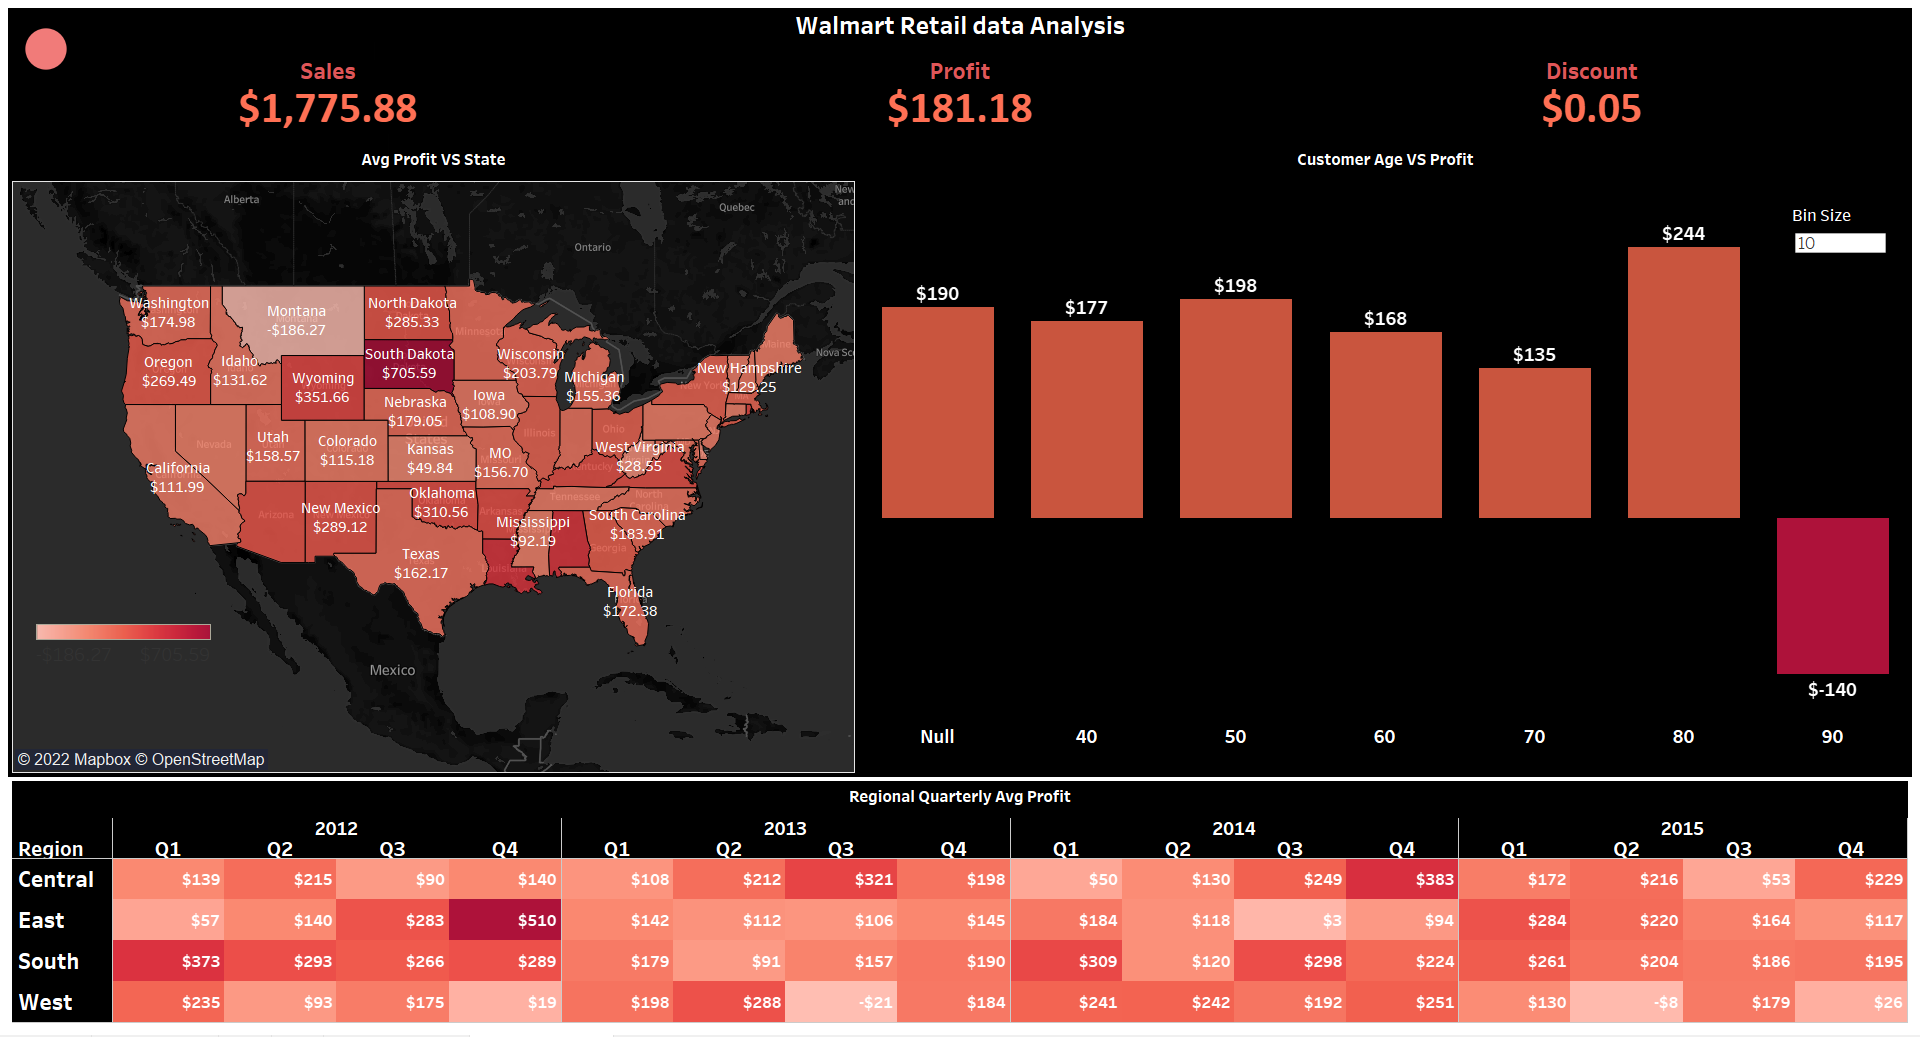

What the dashboard file says about the page in this screenshot:
{"tool":"tableau","page":{"name":"Dashboard 1","canvas":[1000,1000],"units":"permille","ordinal":0},"visuals":[{"type":"text","box":[5,9.9,990,41]},{"type":"worksheet","title":"info","mark":"Circle","box":[12.5,23.6,23.1,47.1]},{"type":"blank","box":[5,50.9,990,18.6]},{"type":"worksheet","title":"avg SPD","mark":"Automatic","box":[5,69.5,990,101.7]},{"type":"worksheet","title":"avg VS state","mark":"Multipolygon","box":[5,173.7,530.5,575.6]},{"type":"worksheet","title":"loss","mark":"Automatic","rows":["Profit"],"cols":["Customer Age (bin)"],"box":[535.5,173.7,459.4,575.6]},{"type":"parameter","param":"[Parameters].[Parameter 1]","box":[933.3,197.3,50.5,78.2]},{"type":"legend","title":"avg VS state","param":"[federated.05pib390i9ice015k579715qkue2].[avg:Profit:qk]","box":[16.8,599.3,95.4,58.3]},{"type":"worksheet","title":"Regional profit","mark":"Square","rows":["Region"],"cols":["Order Date","Order Date"],"box":[5,749.3,990,240.8]}]}

Visuals, with their boxes on the dashboard's canvas, which has no fixed pixel size, in thousandths of its width and height (x1, y1, x2, y2). These are canvas units, not pixel positions in the 1920x1037 screenshot, which may show the page scaled, cropped or inside an application window:
text: x1=5, y1=10, x2=995, y2=51
"info" worksheet (Circle marks): x1=12, y1=24, x2=36, y2=71
blank: x1=5, y1=51, x2=995, y2=70
"avg SPD" worksheet: x1=5, y1=70, x2=995, y2=171
"avg VS state" worksheet (Multipolygon marks): x1=5, y1=174, x2=536, y2=749
"loss" worksheet: x1=536, y1=174, x2=995, y2=749
parameter: x1=933, y1=197, x2=984, y2=276
"avg VS state" legend: x1=17, y1=599, x2=112, y2=658
"Regional profit" worksheet (Square marks): x1=5, y1=749, x2=995, y2=990
